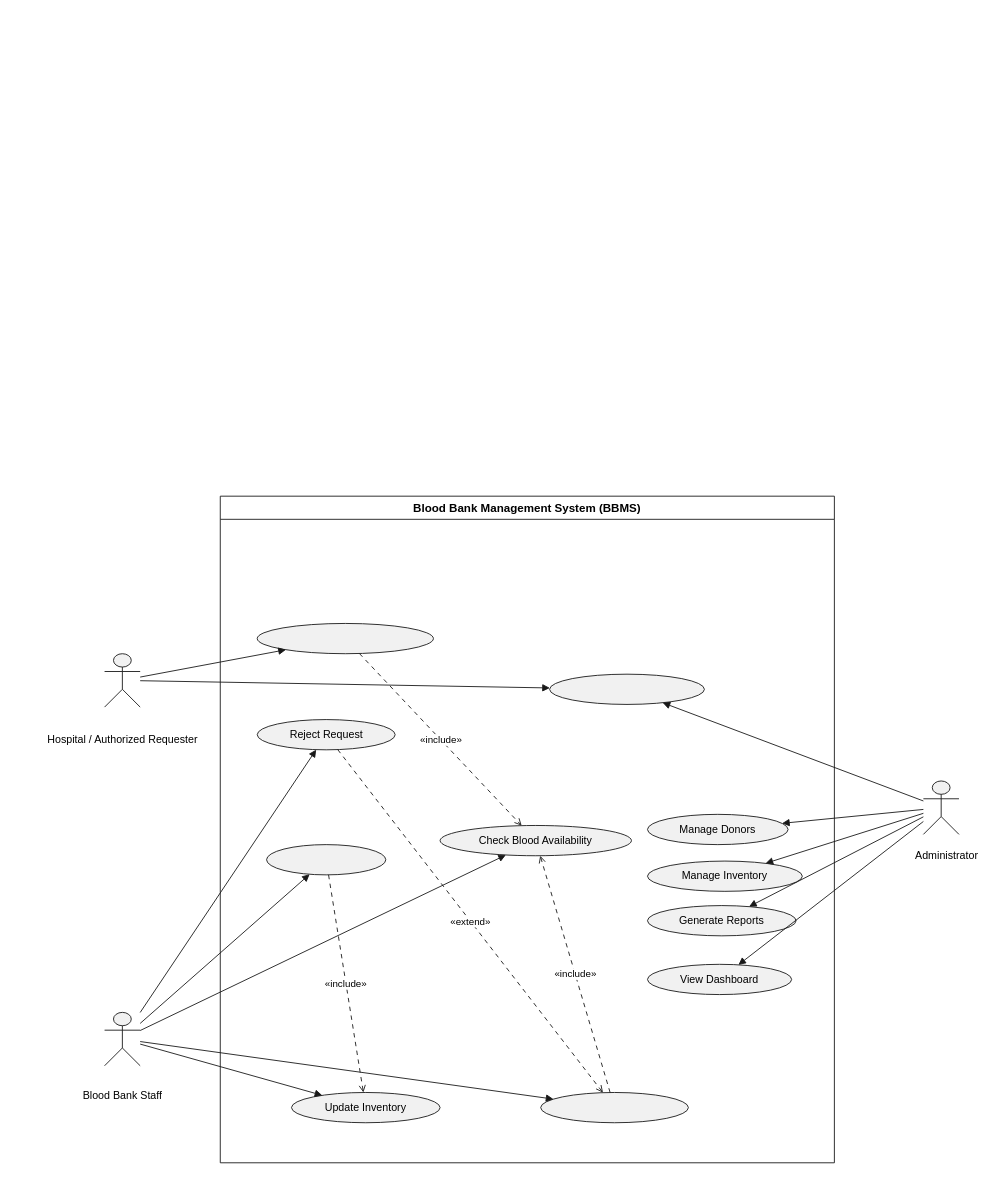
Some shapes in this 1002 by 1178 pixel diagram are drawn without their labels. The shapes that lost their labels are listed below. From the top down, each one's centre as x and y in pixels, then its label:
At pixel 344 638: "Submit Blood Request".
At pixel 626 688: "Manage Requests".
At pixel 326 859: "Issue Blood".
At pixel 614 1107: "Approve Request".
